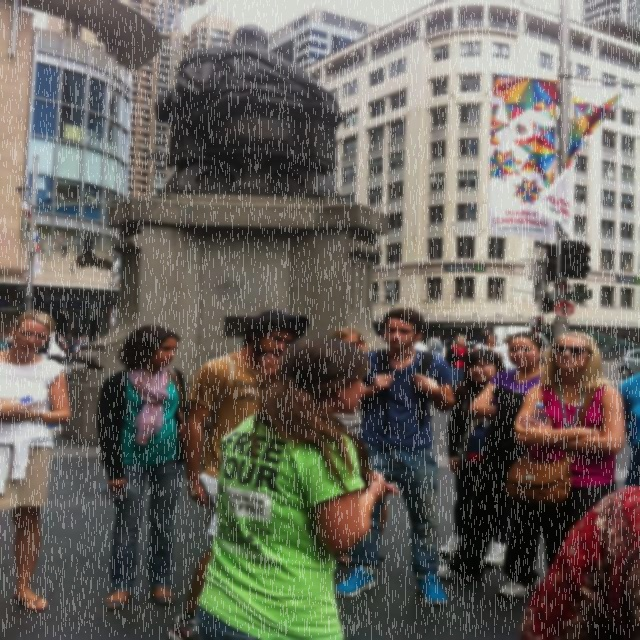pessoa: (188, 332, 402, 639), (166, 310, 312, 640), (333, 306, 457, 606), (432, 330, 550, 600), (510, 332, 626, 574), (92, 325, 190, 611), (0, 307, 73, 614), (438, 348, 512, 568), (518, 488, 618, 640), (322, 327, 372, 442), (619, 372, 639, 639), (446, 333, 472, 391), (36, 332, 66, 364), (472, 333, 504, 359), (496, 335, 518, 372), (426, 330, 444, 358), (0, 328, 14, 353), (474, 328, 492, 346), (65, 331, 76, 359), (412, 334, 427, 352), (442, 337, 454, 357), (58, 331, 68, 354), (373, 328, 387, 344), (71, 336, 81, 358), (78, 333, 89, 352), (89, 334, 101, 344)
